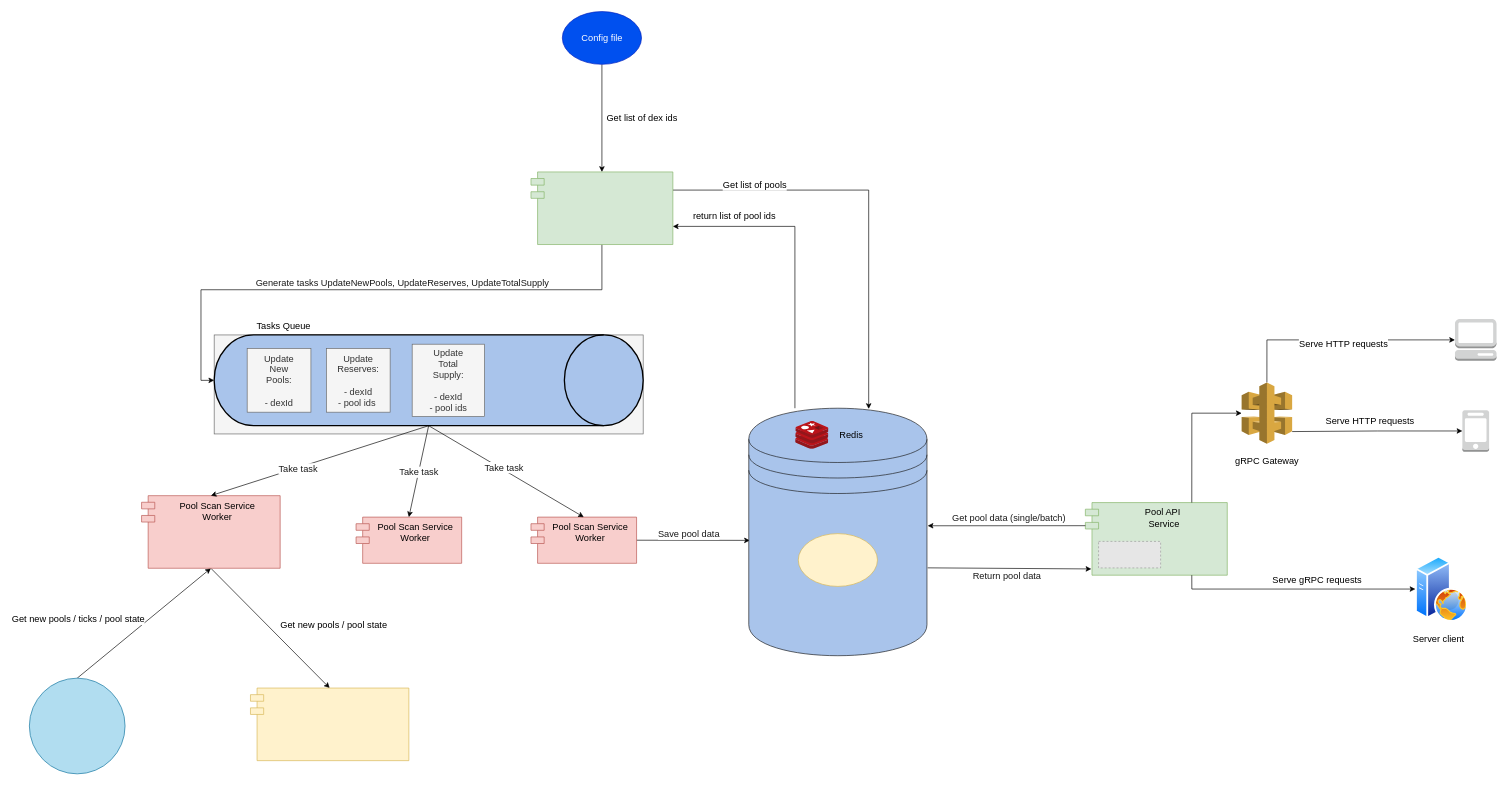
This 1508x785 diagram has some shape labels left out. Grey dashed boxes stand in for pictures. The centre of each missing label's shape, as x and y in pixels:
"Hash: Pools" belongs at point 837,559.
"Pool Scan Service Master" belongs at point 601,208.
"RPC Nodes (Ethereum, BSC, Polygon, ...)" belongs at point 329,724.
"Subgraphs" belongs at point 77,725.
